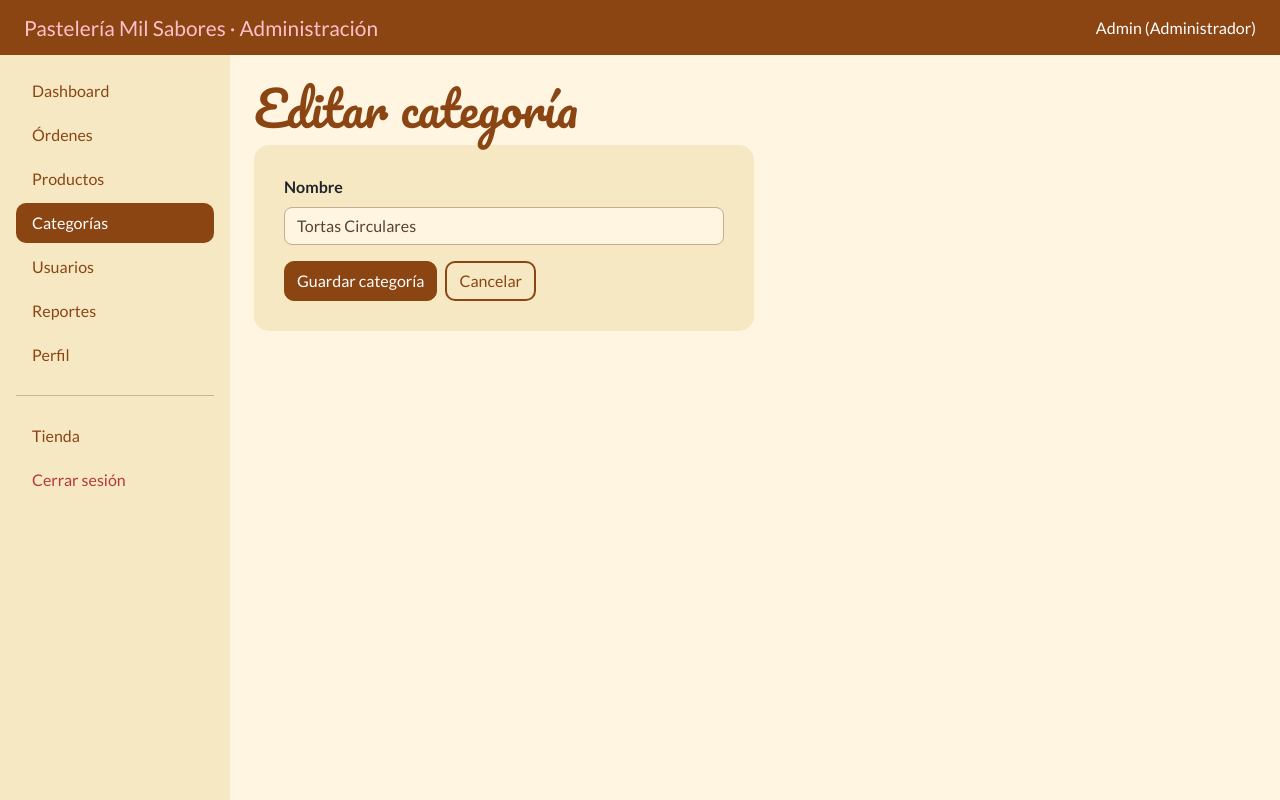
Test: Admin: categorías › renombra una categoría y actualiza sus productos
Replace the text in the field labelled "Nombre" with "Tortas Redondas" at (504, 226), box [284,207,724,245]
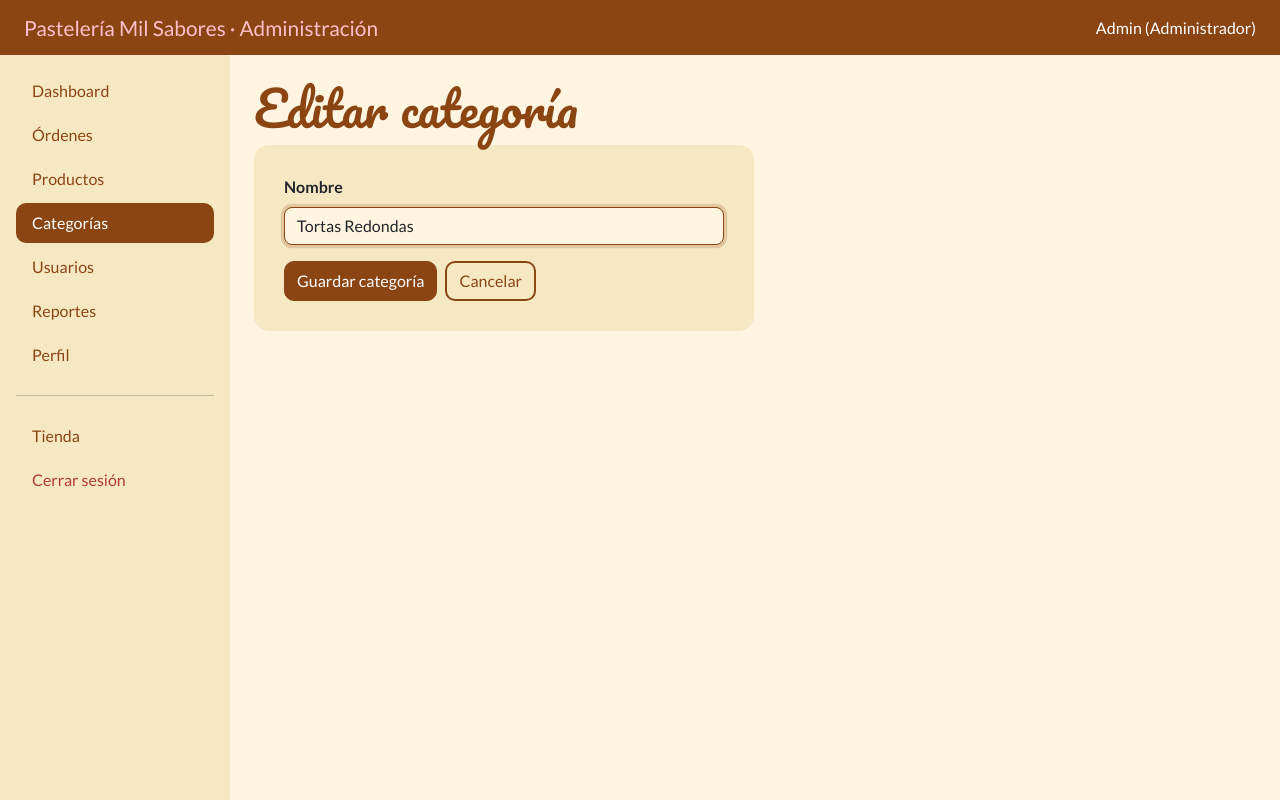
Click the button "Guardar categoría".
click(361, 281)  # box [284,261,438,301]
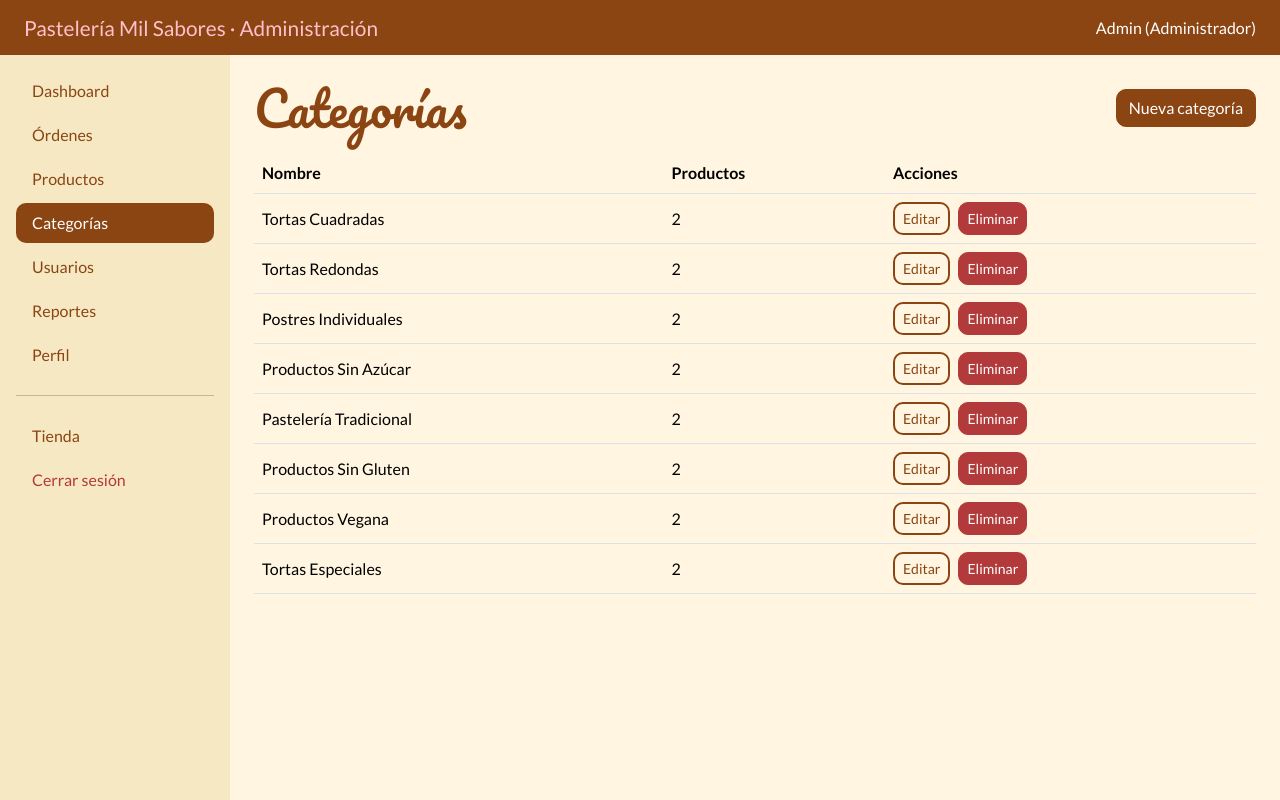
Expected: the text "Tortas Redondas" is shown, [254,244,664,294]
